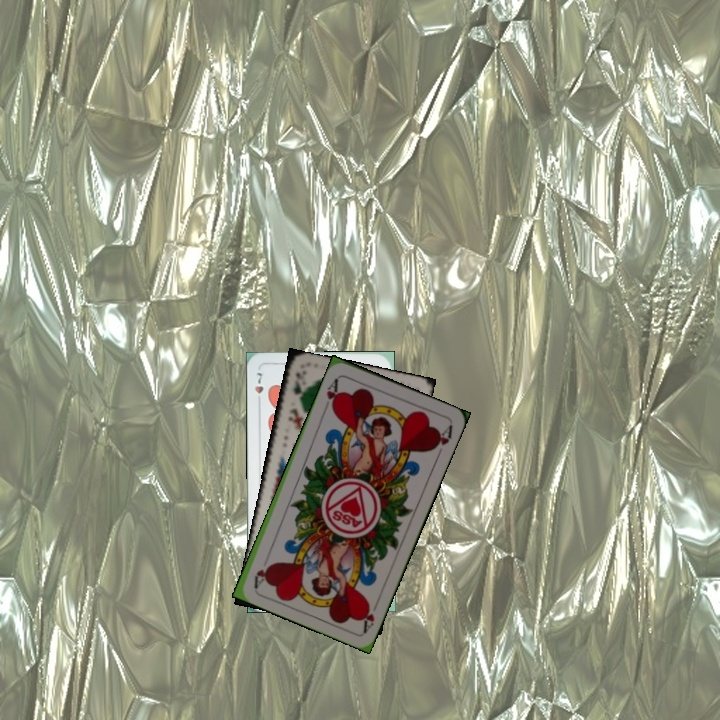GK: (289, 367, 308, 405)
H7: (251, 369, 266, 407)
HA: (357, 595, 382, 634), (322, 374, 342, 412)
